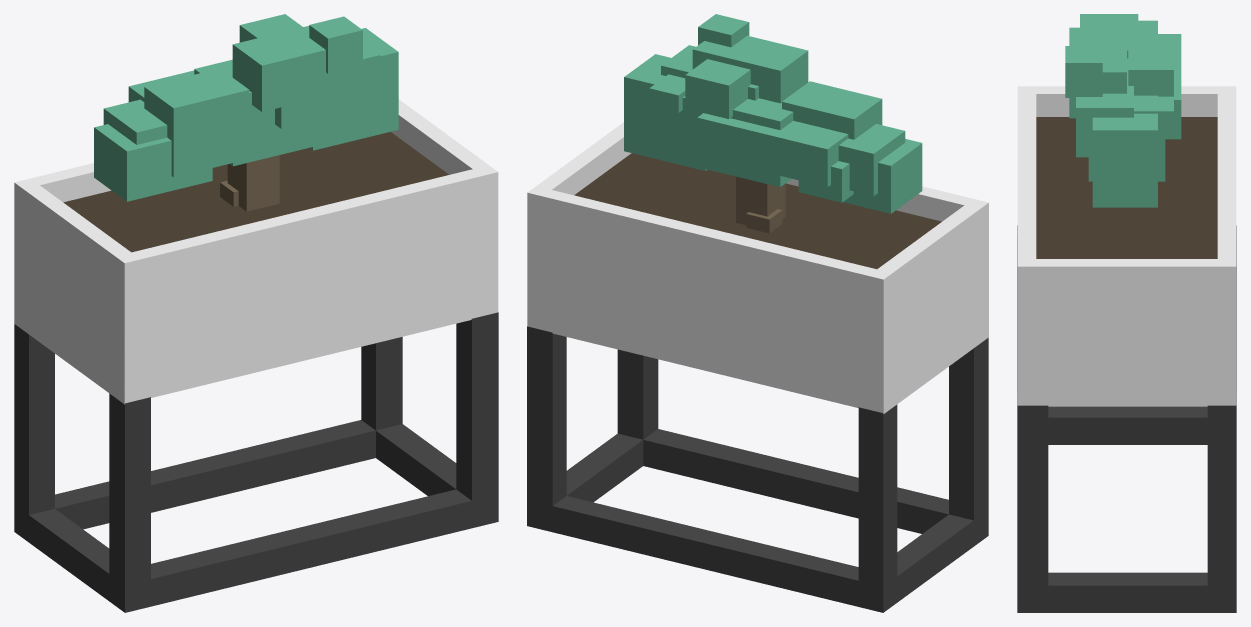
The model's file is plant03_04.gltf.
3 renders of one model, left to right at view 1: azimuth 30°, elevation 25°; view 2: azimuth 150°, elevation 25°; view 3: azimuth 270°, elevation 25°, orthographic. The views are drawn at different scales.
Parts seen in each view (by area): view 1: plant03_stage01:pot1, plant03_stage01:pot, plant03_stage01:dirt, plant03_stage04:pCube4, pCube7, pCube10, plant03_stage04:plant03_stage04:pCube2, plant03_stage04:pCube3, pCube11, plant03_stage04:plant03_stage04:pCube1, pCube8, pCube9 (+1 smaller); view 2: plant03_stage01:pot1, plant03_stage01:pot, plant03_stage01:dirt, plant03_stage04:plant03_stage04:pCube3, plant03_stage04:plant03_stage04:pCube2, pCube7, plant03_stage04:pCube4, pCube11, pCube6, pCube10, pCube9, plant03_stage04:plant03_stage04:pCube1 (+5 smaller); view 3: plant03_stage01:pot1, plant03_stage01:pot, plant03_stage01:dirt, pCube11, pCube7, pCube6, plant03_stage04:pCube3, pCube8, plant03_stage04:plant03_stage04:pCube3, plant03_stage04:pCube4, plant03_stage04:pCube5, plant03_stage04:plant03_stage04:pCube2.
Boxes of the visible parts, left/top/right/bottom form: plant03_stage01:pot1: left=14, top=99, right=498, bottom=404; plant03_stage01:pot: left=14, top=312, right=498, bottom=612; plant03_stage01:dirt: left=63, top=132, right=448, bottom=252; plant03_stage04:pCube4: left=144, top=68, right=249, bottom=177; pCube7: left=232, top=26, right=354, bottom=111; pCube10: left=94, top=124, right=212, bottom=201; plant03_stage04:plant03_stage04:pCube2: left=194, top=59, right=358, bottom=166; plant03_stage04:pCube3: left=275, top=42, right=380, bottom=128; pCube11: left=309, top=28, right=398, bottom=150; plant03_stage04:plant03_stage04:pCube1: left=227, top=155, right=279, bottom=211; pCube8: left=309, top=16, right=362, bottom=73; pCube9: left=103, top=99, right=167, bottom=144; plant03_stage01:pot1: left=527, top=122, right=988, bottom=414; plant03_stage01:pot: left=527, top=326, right=988, bottom=612; plant03_stage01:dirt: left=574, top=153, right=941, bottom=269; plant03_stage04:plant03_stage04:pCube3: left=697, top=113, right=848, bottom=187; plant03_stage04:plant03_stage04:pCube2: left=660, top=96, right=793, bottom=186; pCube7: left=692, top=35, right=808, bottom=103; plant03_stage04:pCube4: left=782, top=81, right=882, bottom=139; pCube11: left=624, top=54, right=707, bottom=170; pCube6: left=685, top=59, right=750, bottom=118; pCube10: left=843, top=139, right=922, bottom=213; pCube9: left=838, top=124, right=905, bottom=196; plant03_stage04:plant03_stage04:pCube1: left=736, top=176, right=785, bottom=224; plant03_stage01:pot1: left=1017, top=86, right=1236, bottom=406; plant03_stage01:pot: left=1017, top=225, right=1236, bottom=612; plant03_stage01:dirt: left=1036, top=117, right=1217, bottom=258; pCube11: left=1092, top=95, right=1157, bottom=207; pCube7: left=1069, top=27, right=1126, bottom=118; pCube6: left=1128, top=48, right=1173, bottom=96; plant03_stage04:pCube3: left=1076, top=60, right=1133, bottom=157; pCube8: left=1065, top=46, right=1102, bottom=97; plant03_stage04:plant03_stage04:pCube3: left=1138, top=34, right=1181, bottom=139; plant03_stage04:pCube4: left=1080, top=14, right=1138, bottom=58; plant03_stage04:pCube5: left=1134, top=96, right=1173, bottom=129; plant03_stage04:plant03_stage04:pCube2: left=1088, top=58, right=1165, bottom=181.
Bounding box in the file's own units: 0.0277 × 0.0355 × 0.0142.
1 material, 1 textured.
